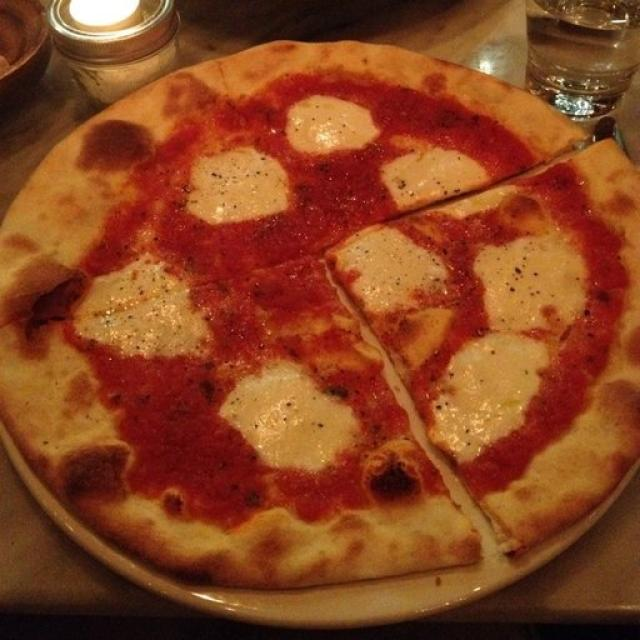Cheese: (222, 362, 356, 466), (81, 260, 206, 362), (427, 334, 544, 441), (476, 235, 588, 325), (332, 227, 442, 305), (281, 88, 379, 158), (189, 146, 285, 214), (389, 138, 478, 197)
Pizza: (0, 42, 640, 590)
